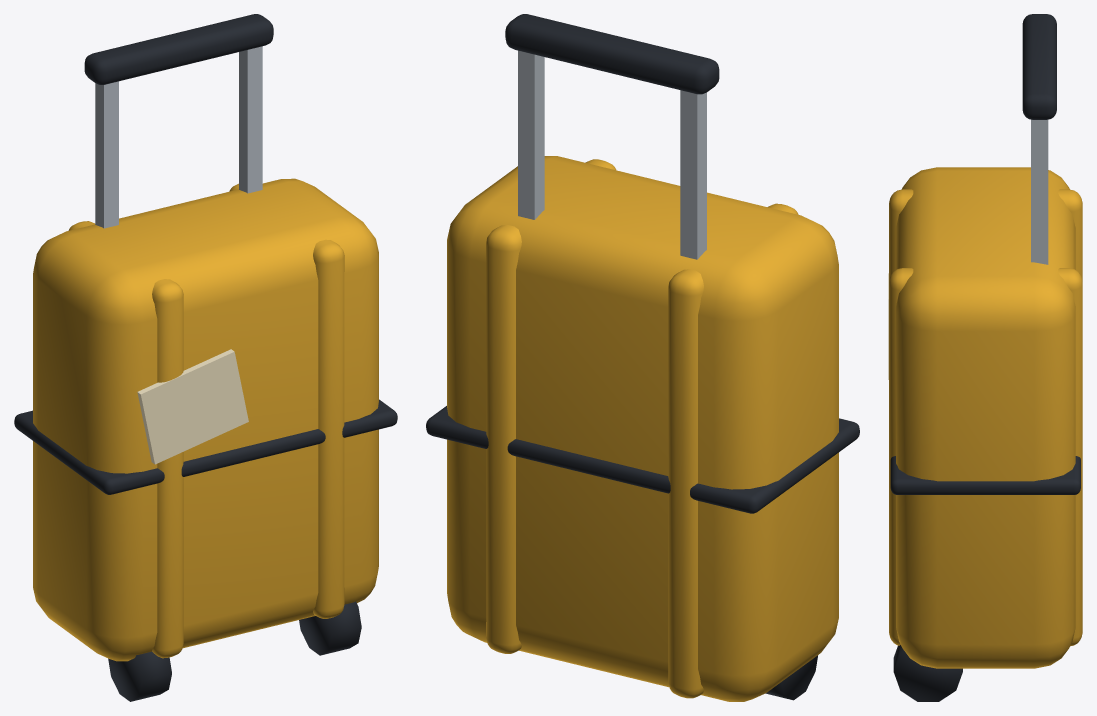
Rendered from suitcase_mustard.glb.
3 renders of one model, left to right at view 1: azimuth 30°, elevation 25°; view 2: azimuth 150°, elevation 25°; view 3: azimuth 270°, elevation 25°, orthographic. The views are drawn at different scales.
Parts seen in each view (by area): view 1: body, rib0.13440000000000002, rib-0.13440000000000002, sticker, grip, zip, rod-0.12, rod0.12, wheel-0.1584, wheel0.1584; view 2: body, rib-0.13440000000000002, rib0.13440000000000002, grip, zip, rod-0.12, rod0.12, wheel-0.1584; view 3: body, rib0.13440000000000002, grip, zip, rod0.12, wheel0.1584, rib-0.13440000000000002.
Part boxes in pixels (x1,y1,x2,y2): body: (33, 178, 378, 661); rib0.13440000000000002: (229, 183, 344, 618); rib-0.13440000000000002: (68, 221, 183, 658); sticker: (137, 349, 248, 464); grip: (84, 14, 273, 84); zip: (14, 399, 397, 494); rod-0.12: (95, 81, 118, 228); rod0.12: (239, 46, 262, 193); wheel-0.1584: (108, 651, 171, 701); wheel0.1584: (299, 601, 361, 655); body: (447, 156, 838, 701); rib-0.13440000000000002: (668, 203, 798, 698); rib0.13440000000000002: (486, 159, 616, 653); grip: (505, 14, 719, 94); zip: (426, 406, 859, 513); rod-0.12: (680, 90, 706, 259); rod0.12: (518, 50, 544, 219); wheel-0.1584: (765, 655, 817, 700); body: (896, 167, 1075, 668); rib0.13440000000000002: (889, 268, 1082, 646); grip: (1022, 14, 1056, 119); zip: (890, 456, 1080, 494); rod0.12: (1031, 119, 1048, 264); wheel0.1584: (893, 645, 962, 701); rib-0.13440000000000002: (889, 189, 1082, 280).
Bounding box in the file's own units: 0.49 × 0.9476 × 0.281.
